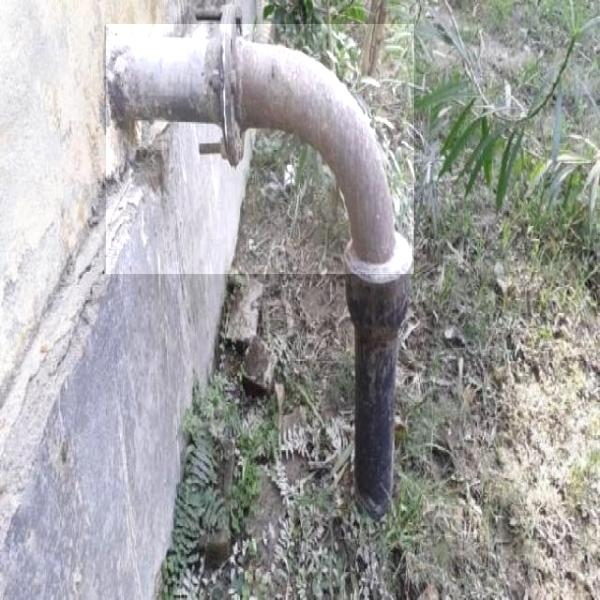no leak: (106, 24, 414, 274)
